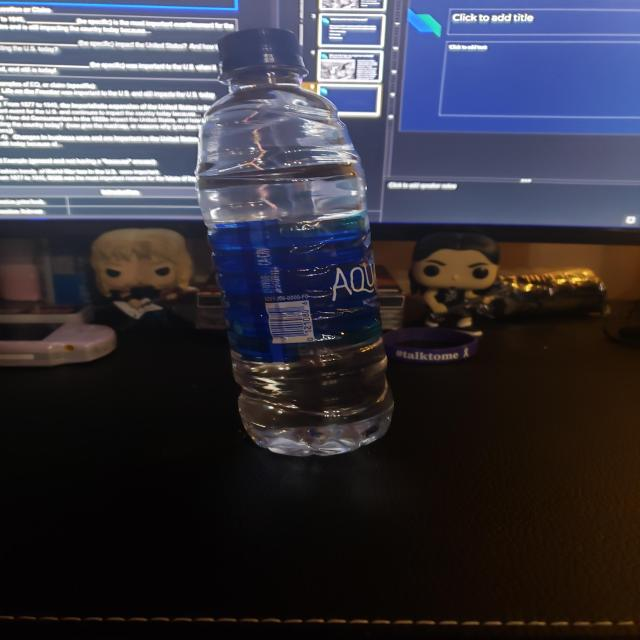bottle: (190, 27, 392, 460)
